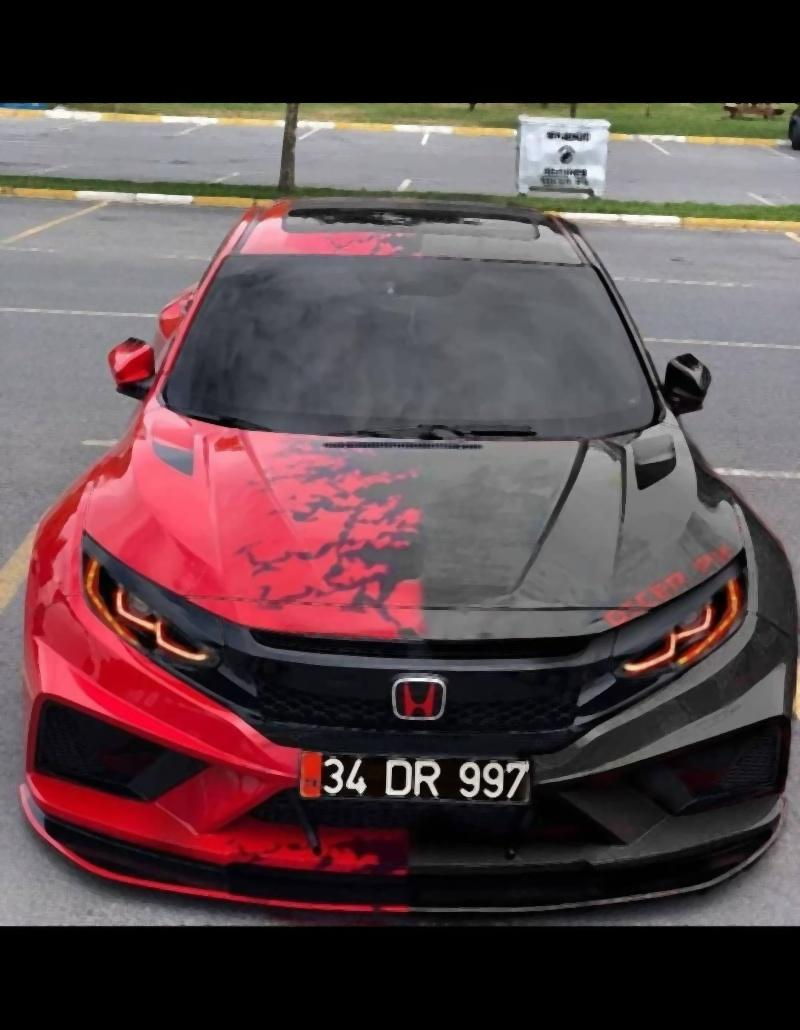Car hood: (85, 392, 748, 644)
Front bumper: (16, 626, 800, 917)
Headlight - -L-: (604, 565, 755, 692)
Headlight - -R-: (80, 552, 229, 680)
Side mirror - -L-: (642, 338, 725, 424)
Side mirror - -R-: (95, 329, 175, 416)
